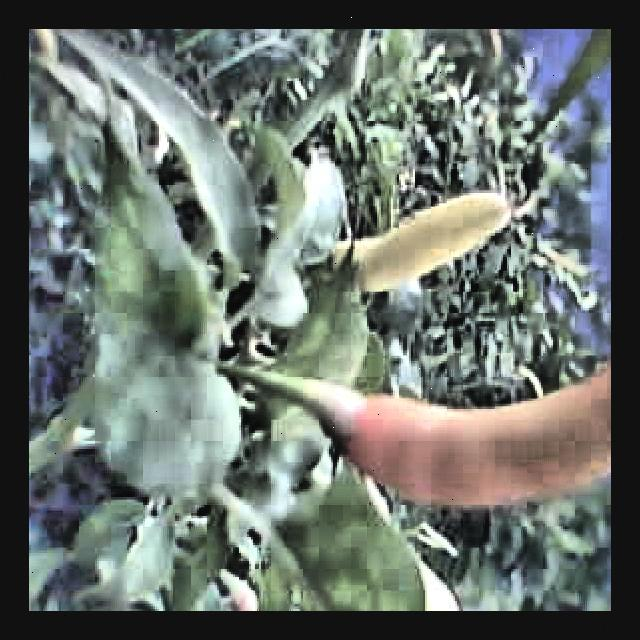Cabai: (313, 341, 611, 545)
